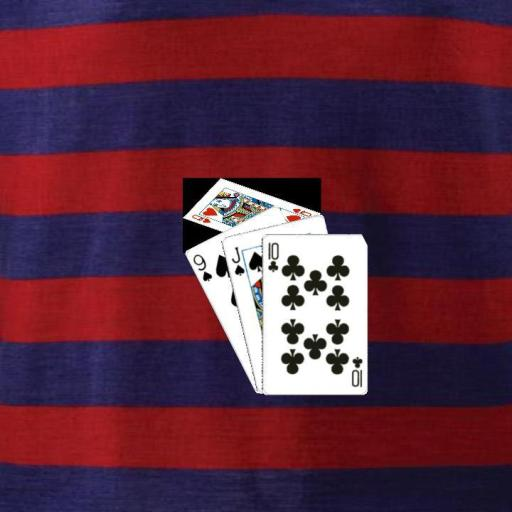10C: (348, 354, 364, 389), (265, 239, 280, 273)
9S: (189, 251, 213, 283)
JS: (228, 244, 246, 278)
